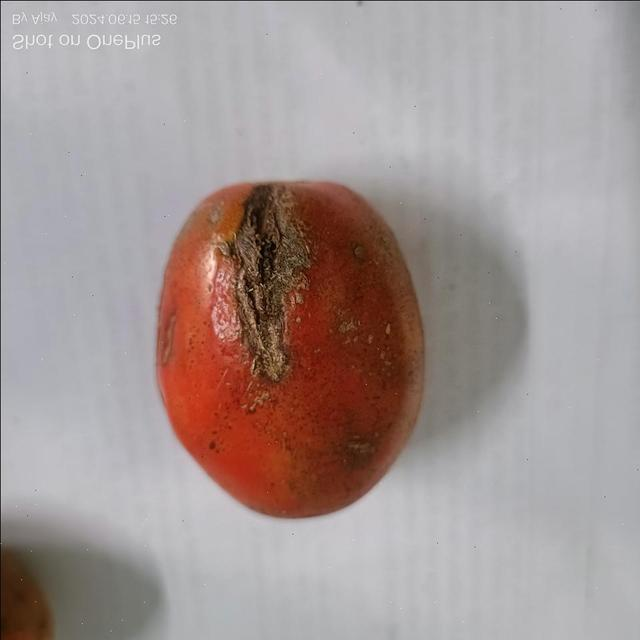Cracking Fruit: (88, 123, 302, 287)
